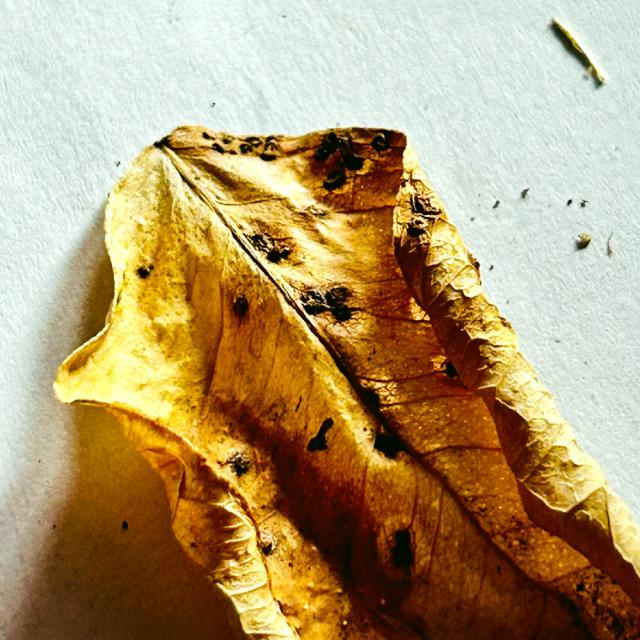DryLeaf_Lemon: (54, 126, 639, 639)
